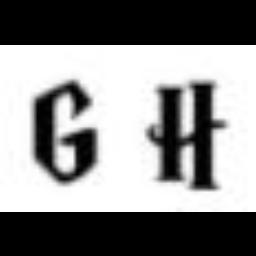g: (30, 72, 106, 194)
h: (144, 78, 234, 198)
